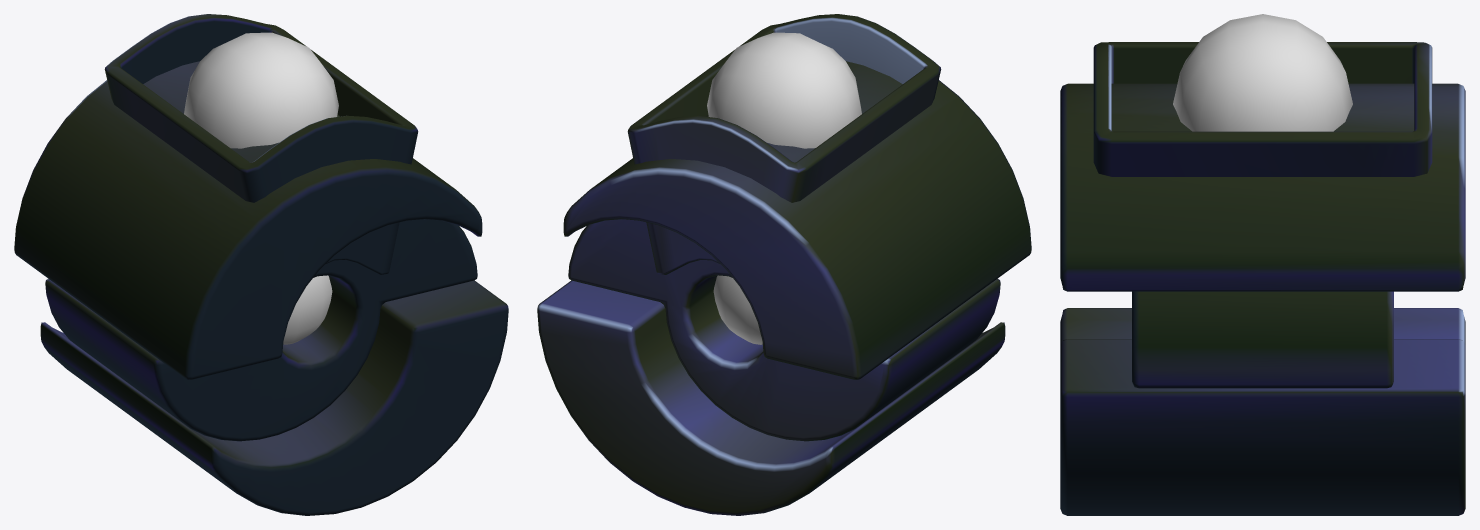
The model's file is Stagelight_Circle_Blue.fbx.
3 renders of one model, left to right at view 1: azimuth 30°, elevation 25°; view 2: azimuth 150°, elevation 25°; view 3: azimuth 270°, elevation 25°, orthographic. The views are drawn at different scales.
Parts seen in each view (by area): view 1: Housing, Bulb; view 2: Housing, Bulb; view 3: Housing, Bulb.
Part boxes in pixels (bbox=[...]): Housing: bbox=[14, 14, 508, 515]; Bulb: bbox=[184, 32, 338, 344]; Housing: bbox=[537, 14, 1031, 515]; Bulb: bbox=[707, 32, 861, 344]; Housing: bbox=[1060, 42, 1465, 515]; Bulb: bbox=[1173, 14, 1352, 131].
Bounding box in the file's own units: 95.74 × 116 × 90.
